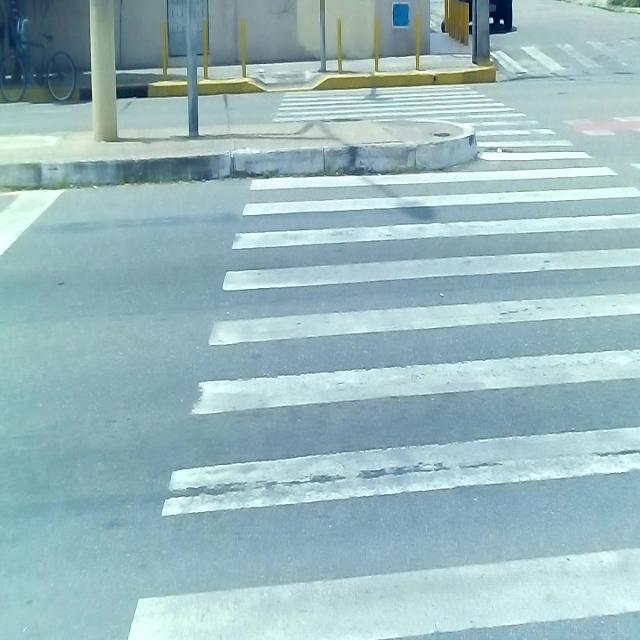crosswalk: (107, 84, 640, 640), (489, 35, 640, 80)
